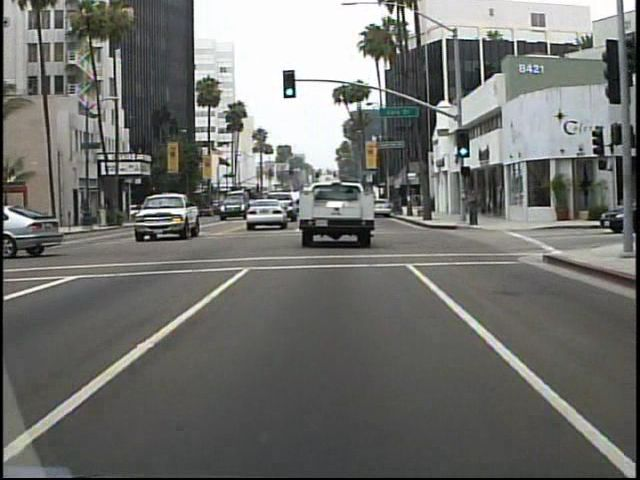car: (297, 176, 374, 249), (1, 205, 67, 259), (138, 193, 201, 238), (245, 197, 286, 231), (222, 193, 249, 219)
